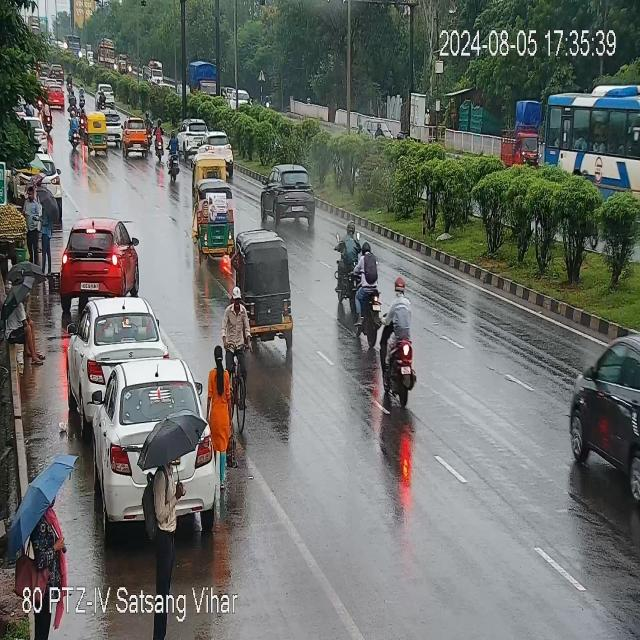2-wheelers: (331, 229, 381, 346), (383, 275, 418, 399), (231, 284, 247, 431), (150, 119, 166, 162), (167, 138, 182, 182), (68, 109, 82, 154), (145, 109, 153, 148), (43, 101, 51, 132), (80, 83, 86, 107), (69, 90, 75, 109), (101, 91, 106, 107)
auto: (231, 228, 295, 351), (193, 177, 235, 263), (189, 159, 229, 190), (84, 113, 108, 159)
bus: (544, 80, 640, 205)
car: (565, 326, 638, 482), (93, 362, 201, 457), (68, 295, 162, 399), (60, 220, 144, 312), (261, 160, 313, 228), (180, 119, 213, 153), (198, 128, 230, 156), (124, 119, 145, 157), (107, 113, 123, 146), (97, 83, 115, 109), (47, 84, 65, 108)
pedestrian: (141, 425, 174, 585), (30, 464, 70, 582), (210, 342, 235, 464), (7, 294, 40, 366), (23, 185, 46, 262), (40, 188, 55, 279)
truck: (186, 58, 224, 100)
